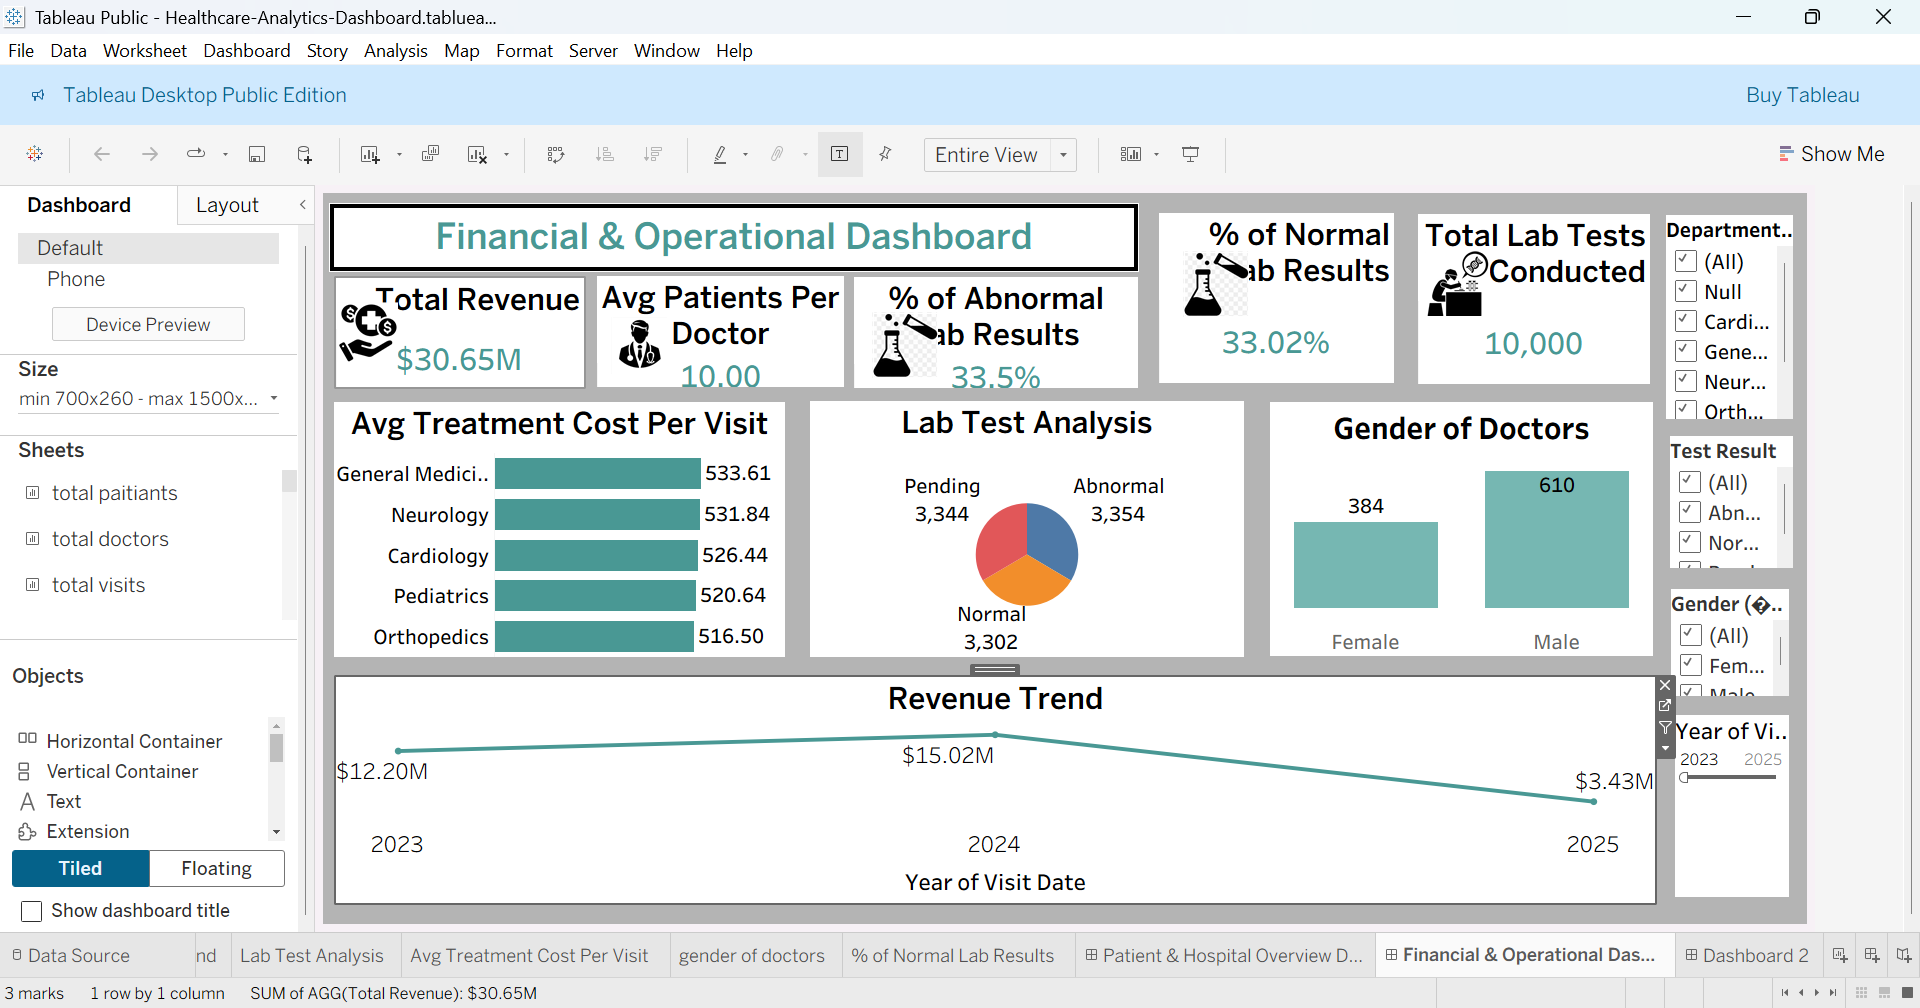

What the dashboard file says about the page in this screenshot:
{"tool":"tableau","page":{"name":"Financial & Operational Dashboard","canvas":[1000,1000],"units":"permille","ordinal":1},"visuals":[{"type":"title","box":[9.5,23.7,540.3,92.9]},{"type":"worksheet","title":"% of Normal Lab Results","mark":"Automatic","box":[562.8,37.2,156.7,228]},{"type":"worksheet","title":"Total Lab Tests Conducted","mark":"Automatic","box":[735.1,38.9,155,228]},{"type":"filter","title":"Avg Treatment Cost Per Visit","param":"[federated.00iu8ks0qcgzc71cnvaug08gd13g].[none:Department Name:nk]","box":[900.4,40.5,84.9,273.7]},{"type":"image","param":"Image/images (1) 1.jpeg","box":[578.4,87.8,44.2,91.2]},{"type":"image","param":"Image/b9e581f6932f2482ef402e8a726a8438.jpg","box":[740.3,87.8,43.3,104.7]},{"type":"worksheet","title":"doctor workload","mark":"Automatic","box":[187.9,121.6,164.5,148.7]},{"type":"worksheet","title":"% of Abnormal Lab Results","mark":"Automatic","box":[359.3,123.3,189.6,148.7]},{"type":"worksheet","title":"Total Revenue","mark":"Automatic","box":[13.8,125,165.4,145.3]},{"type":"image","param":"Image/360_F_657055826_fCOplGX8fFi7pPSq0zFhh3LRnyqu8yoY.jpg","box":[14.7,157.1,41.6,81.1]},{"type":"image","param":"Image/images (1).jpeg","box":[371.4,170.6,44.2,91.2]},{"type":"image","param":"Image/doctor1.png","box":[197.4,177.4,39,76]},{"type":"worksheet","title":"Lab Test Analysis","mark":"Pie","box":[329.9,288.9,289.2,342.9]},{"type":"worksheet","title":"Avg Treatment Cost Per Visit","mark":"Automatic","rows":["Department Name"],"cols":["Direct Treatment Cost ($)"],"box":[13,290.5,300.4,341.2]},{"type":"worksheet","title":"gender of doctors","mark":"Automatic","rows":["Doctor Name"],"cols":["Gender (👨⚕️ Doctor)"],"box":[636.4,290.5,255.4,339.5]},{"type":"filter","title":"Lab Test Analysis","param":"[federated.00iu8ks0qcgzc71cnvaug08gd13g].[none:Test Result:nk]","box":[903,336.2,82.2,177.4]},{"type":"filter","title":"gender of doctors","param":"[federated.00iu8ks0qcgzc71cnvaug08gd13g].[none:Gender (👨⚕️ Doctor):nk]","box":[903.9,540.5,78.8,143.6]},{"type":"worksheet","title":"Revenue Trend","mark":"Automatic","rows":["Calculation_1443996216512515"],"cols":["Visit Date"],"box":[13.8,658.8,879.6,302.4]},{"type":"filter","title":"Revenue Trend","param":"[federated.00iu8ks0qcgzc71cnvaug08gd13g].[tyr:Visit Date:qk]","box":[906.5,709.5,76.2,243.2]}]}

Visuals, with their boxes on the dashboard's canvas, which has no fixed pixel size, in thousandths of its width and height (x1, y1, x2, y2). These are canvas units, not pixel positions in the 1920x1008 screenshot, which may show the page scaled, cropped or inside an application window:
title: bbox(10, 24, 550, 117)
"% of Normal Lab Results" worksheet: bbox(563, 37, 720, 265)
"Total Lab Tests Conducted" worksheet: bbox(735, 39, 890, 267)
"Avg Treatment Cost Per Visit" filter: bbox(900, 40, 985, 314)
image: bbox(578, 88, 623, 179)
image: bbox(740, 88, 784, 192)
"doctor workload" worksheet: bbox(188, 122, 352, 270)
"% of Abnormal Lab Results" worksheet: bbox(359, 123, 549, 272)
"Total Revenue" worksheet: bbox(14, 125, 179, 270)
image: bbox(15, 157, 56, 238)
image: bbox(371, 171, 416, 262)
image: bbox(197, 177, 236, 253)
"Lab Test Analysis" worksheet (Pie marks): bbox(330, 289, 619, 632)
"Avg Treatment Cost Per Visit" worksheet: bbox(13, 290, 313, 632)
"gender of doctors" worksheet: bbox(636, 290, 892, 630)
"Lab Test Analysis" filter: bbox(903, 336, 985, 514)
"gender of doctors" filter: bbox(904, 540, 983, 684)
"Revenue Trend" worksheet: bbox(14, 659, 893, 961)
"Revenue Trend" filter: bbox(906, 710, 983, 953)
